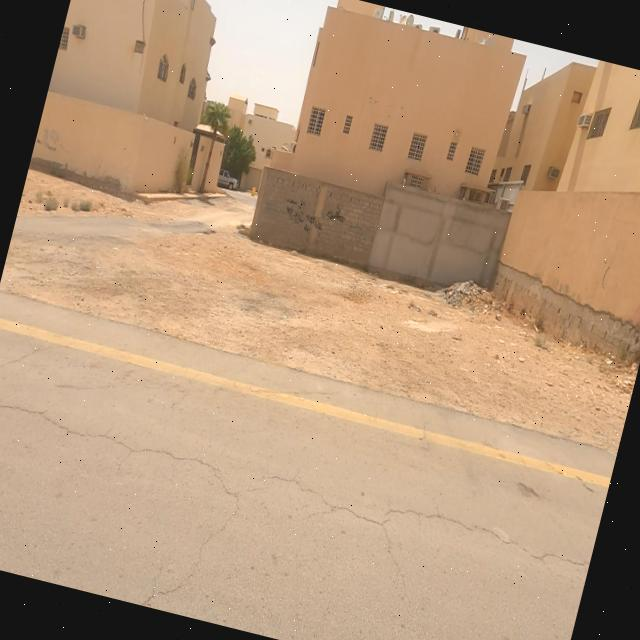Graffiti: (282, 195, 310, 228), (301, 210, 325, 240), (324, 206, 346, 224)
